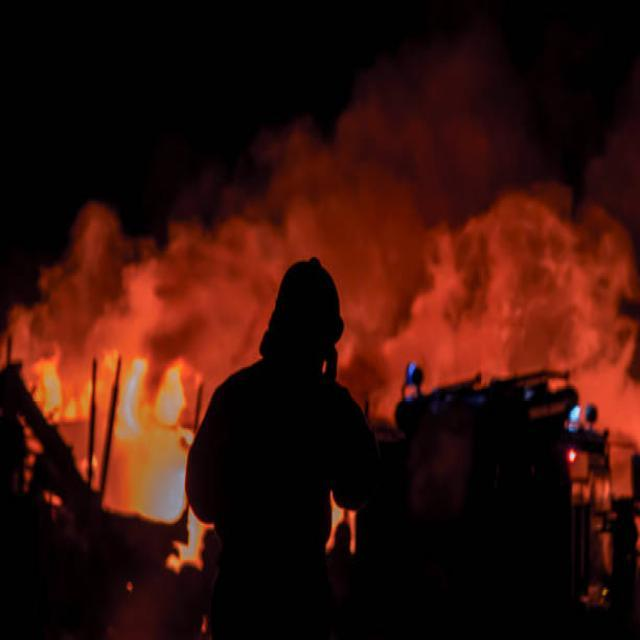Fire: (23, 345, 185, 432)
Smoke: (0, 99, 395, 383), (382, 87, 640, 424)
